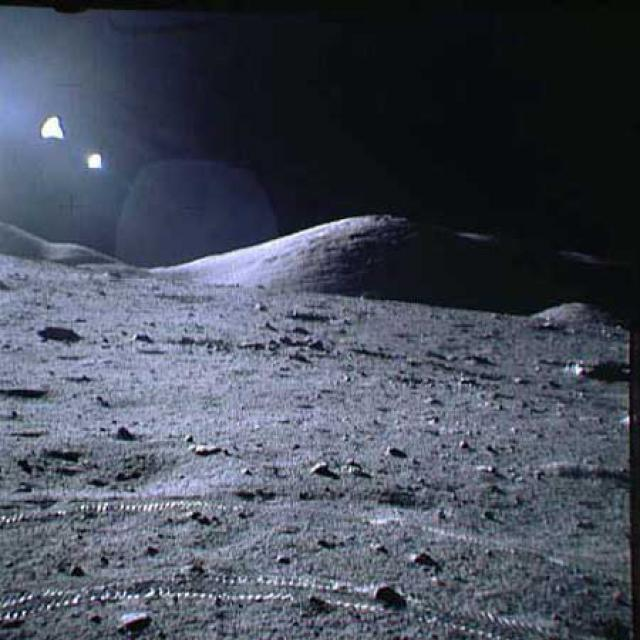rock: (112, 602, 160, 634), (107, 419, 140, 444), (367, 578, 398, 602), (186, 440, 223, 457), (385, 442, 412, 462), (308, 455, 331, 477)
